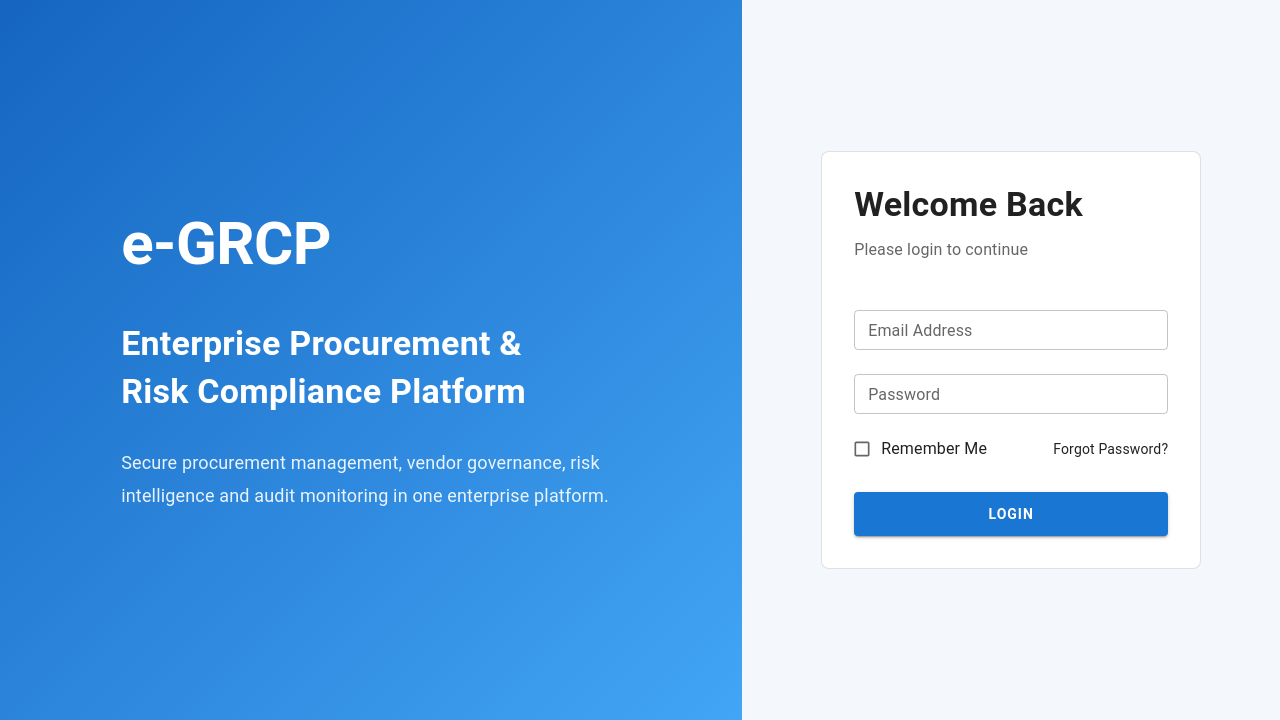
Scenario: Login › shows validation errors
Click the button "LOGIN".
click(1011, 514)  # box [854, 492, 1168, 536]
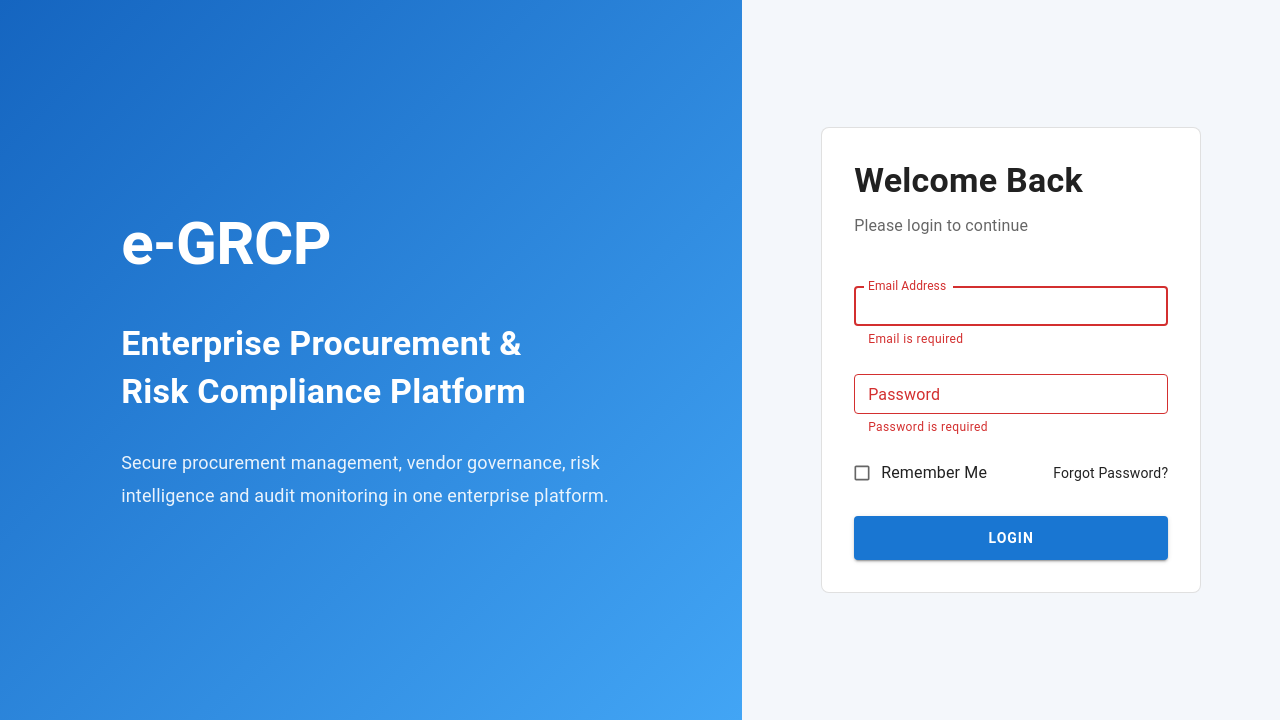
expect the text "Email is required" is shown: met, box [868, 332, 964, 346]
expect the text "Password is required" is shown: met, box [868, 420, 988, 434]
